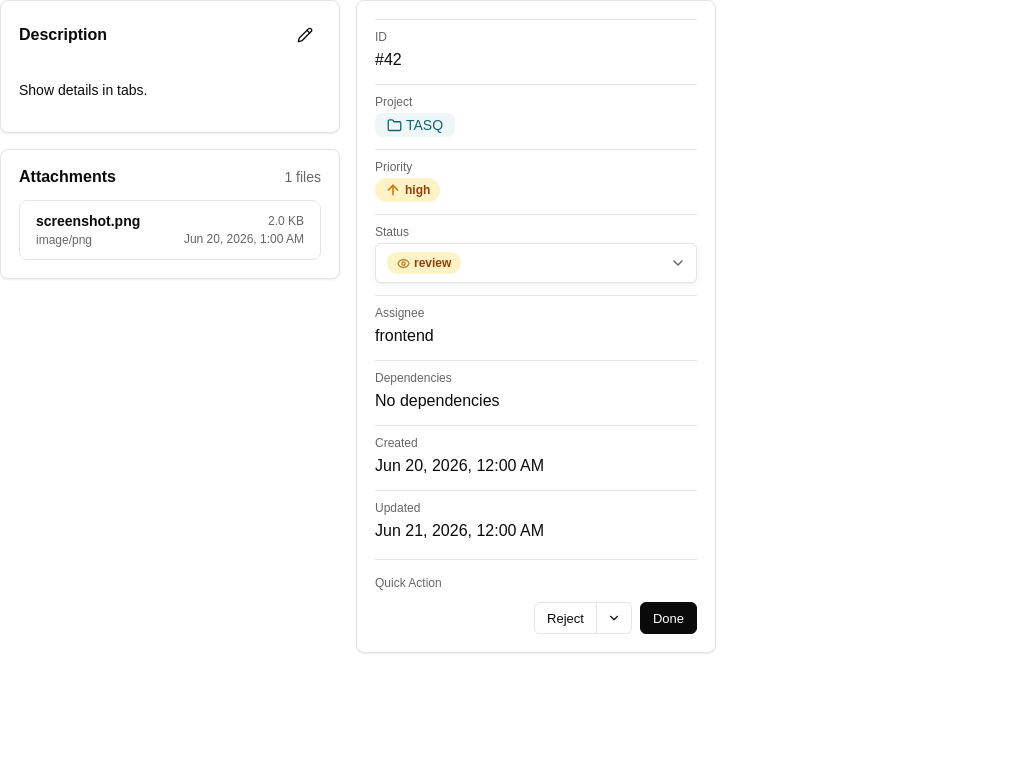
it: IssueDetailPage › does not move the issue when change request creation fails
The width and height of the screenshot is (1024, 768).
Click the button "Reject" at {"x": 566, "y": 618}, box [534, 602, 597, 634]
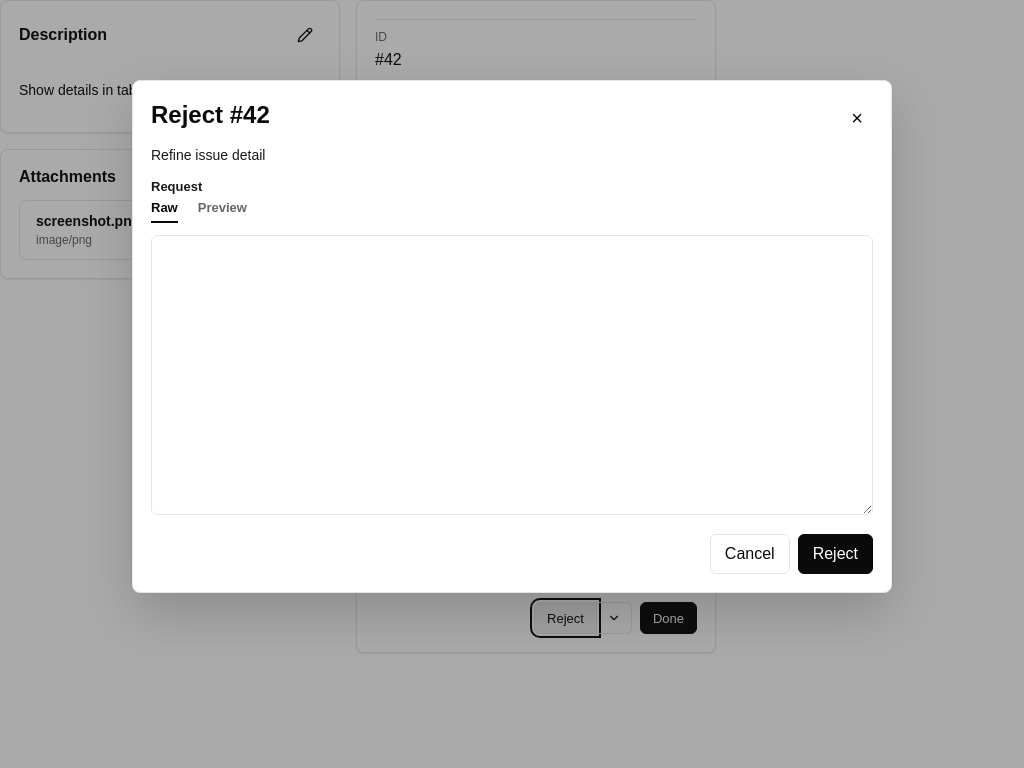
Type "Fix the tests" into the text box named "Request" at {"x": 512, "y": 375}, box [151, 235, 873, 515]
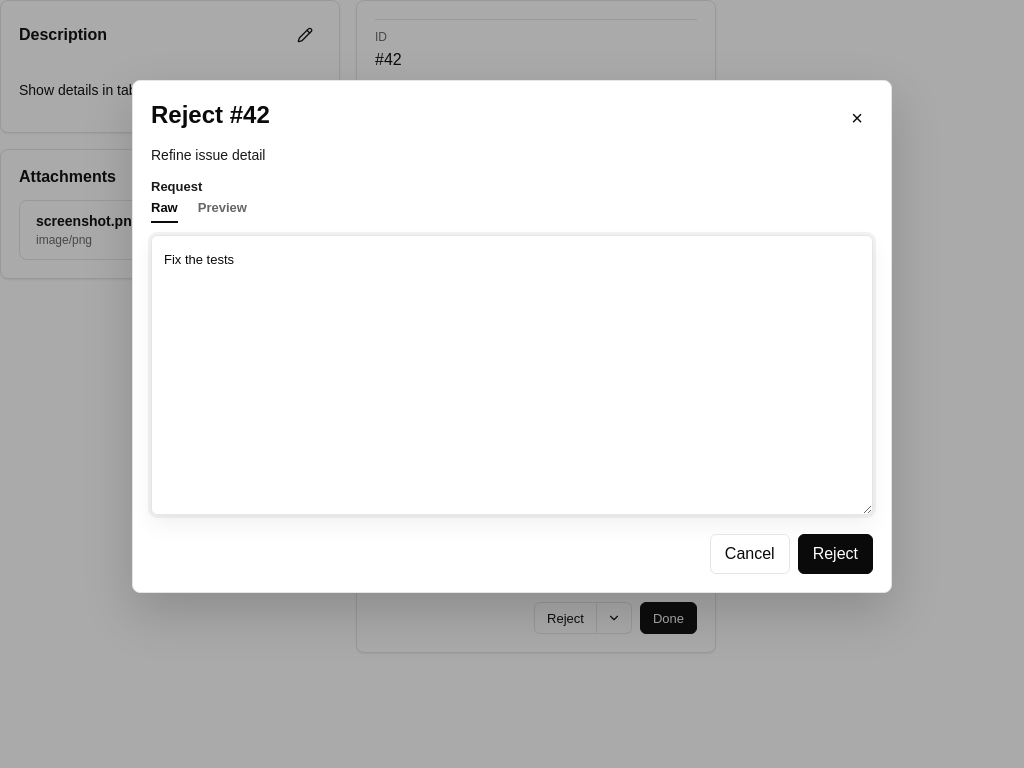
Click the button "Reject" at {"x": 835, "y": 554}, box [798, 534, 873, 574]
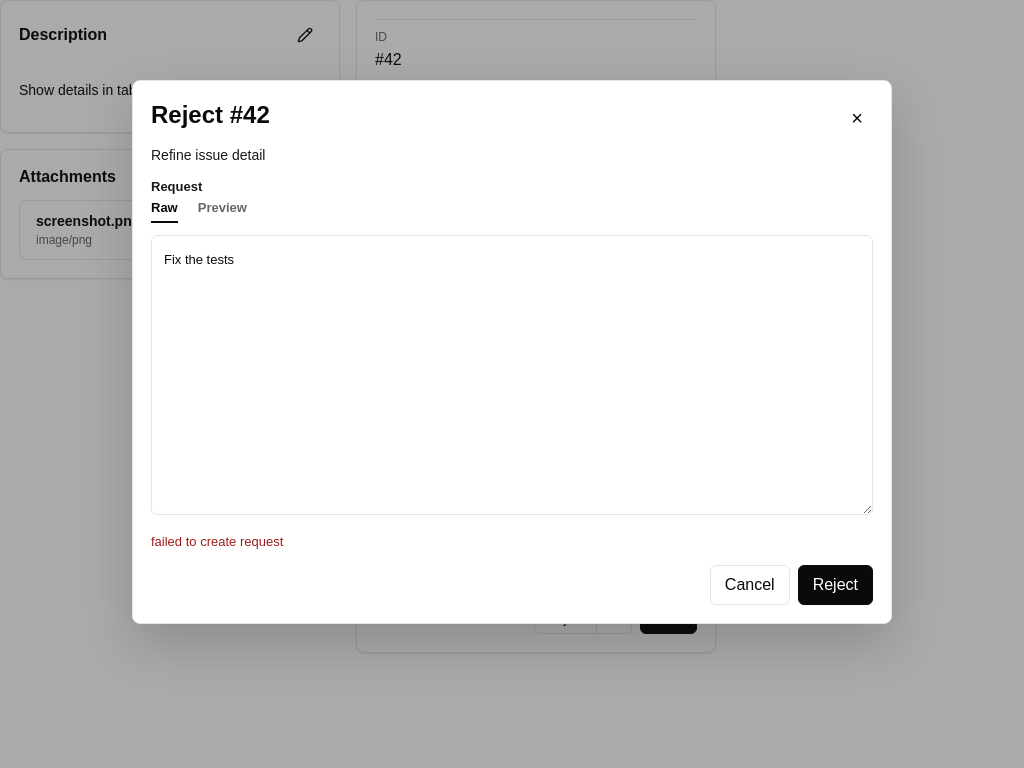
Result: the dialog "Reject #42" is shown at [132, 80, 892, 624]
Result: the text "failed to create request" is shown at [151, 534, 283, 549]
